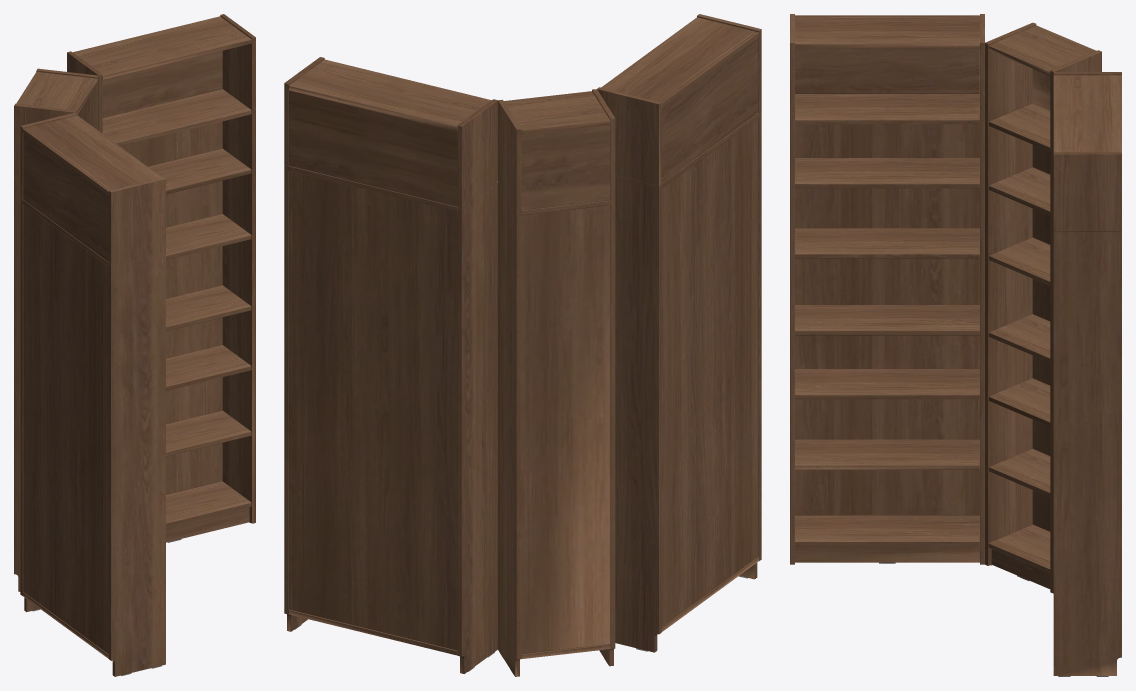
3 views of the same model, side by side, from view 1: azimuth 30°, elevation 25°; view 2: azimuth 150°, elevation 25°; view 3: azimuth 270°, elevation 25° (orthographic). The views are drawn at different scales.
Visible parts, largest first — view 1: Mesh_0; view 2: Mesh_0; view 3: Mesh_0.
Boxes of the visible parts, bbox=[...] form: Mesh_0: bbox=[14, 14, 255, 676]; Mesh_0: bbox=[284, 14, 761, 676]; Mesh_0: bbox=[790, 14, 1121, 676].
Bounding box in the file's own units: 1.36 × 2.37 × 1.36.
1 material, 1 textured.
